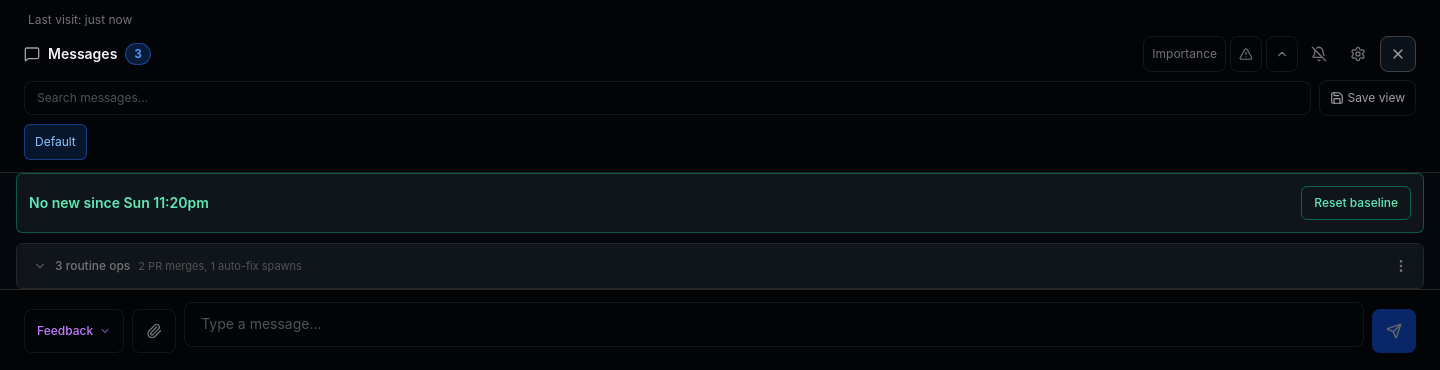
MessagesPanel event type volume in prefs popover › renders event type count in prefs popover
Step 1. Click the button named "Event type visibility" → click(1358, 54), box [1340,36,1376,72]
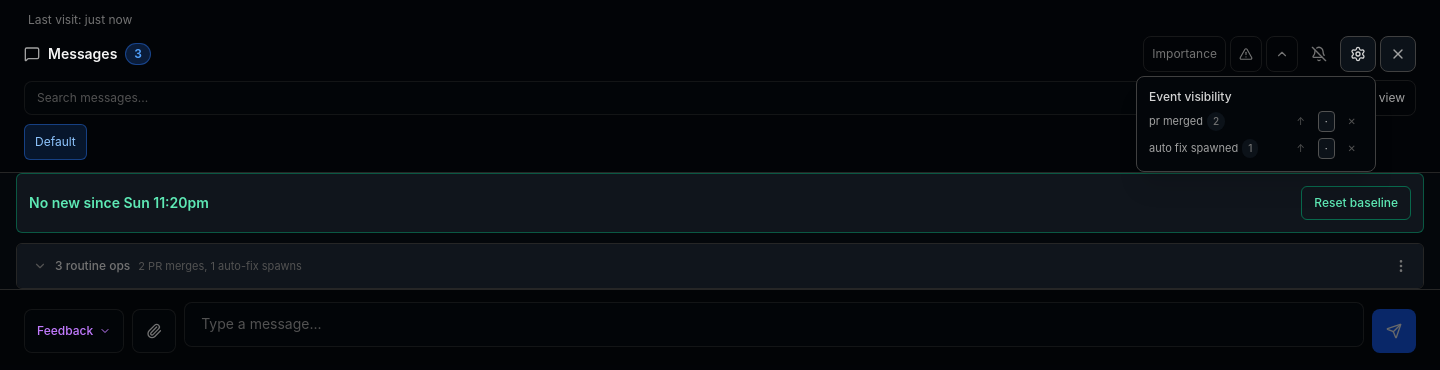
Check: the element showing "Event visibility pr merged 2 ↑ · ✕ auto fix spawned 1 ↑ · ✕" is shown, box [1136,76,1376,172]
